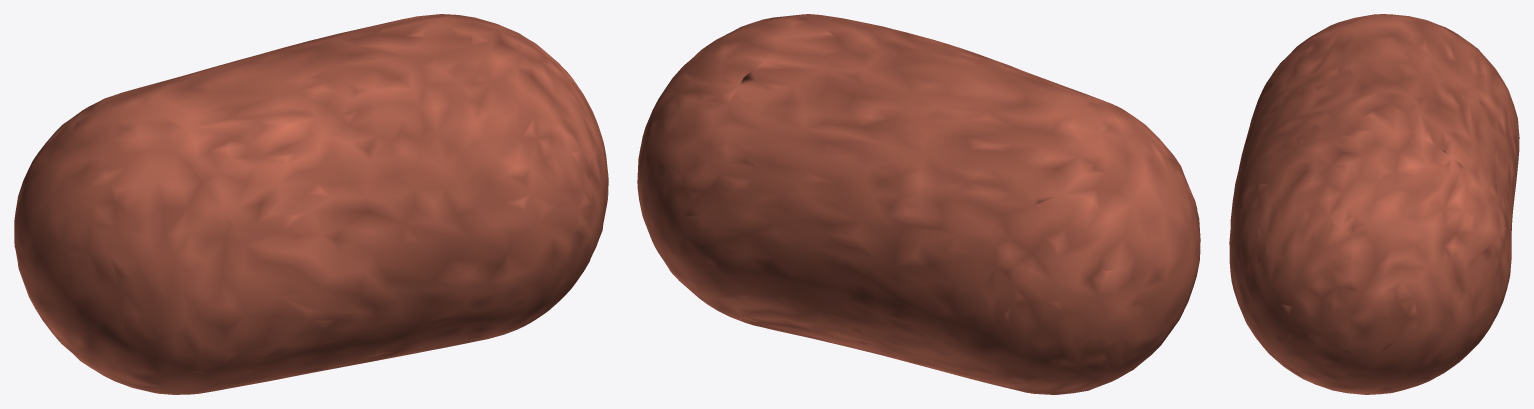
Rendered from mitocondria-fechada.glb.
3 views of the same model, side by side, from view 1: azimuth 30°, elevation 25°; view 2: azimuth 150°, elevation 25°; view 3: azimuth 270°, elevation 25° (orthographic). The views are drawn at different scales.
Visible parts, largest first — view 1: membrana_externa; view 2: membrana_externa; view 3: membrana_externa.
Part boxes in pixels (<box>): membrana_externa: <box>14,14,608,394</box>; membrana_externa: <box>637,14,1200,394</box>; membrana_externa: <box>1229,14,1519,394</box>.
Size of the model in its own units: 0.396 by 0.2092 by 0.2165.
